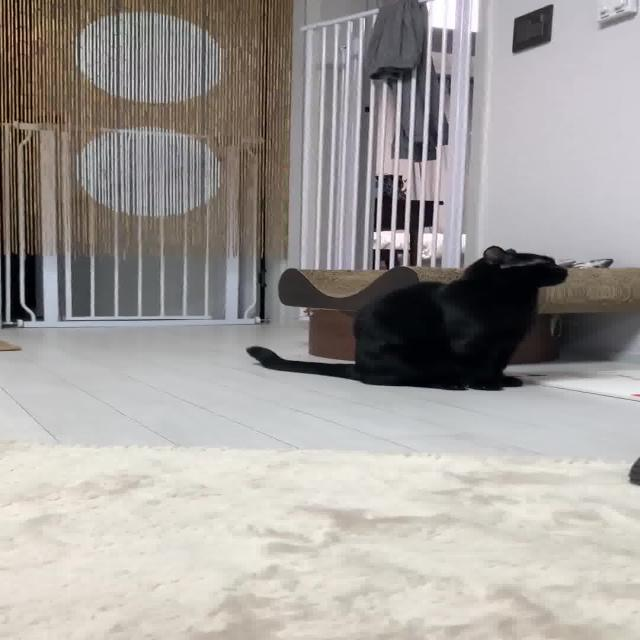cat: (222, 235, 578, 402)
